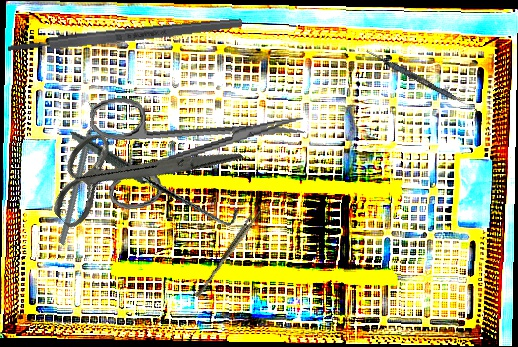Chopper: (10, 101, 143, 246)
Hook Surgical: (69, 86, 242, 266)
Iris Scissors: (31, 67, 245, 279), (88, 72, 313, 214)
Scalpel Handle: (7, 16, 243, 55)
Spatula Surgical: (364, 49, 482, 114)
Tissue Forceps: (194, 204, 263, 301)
